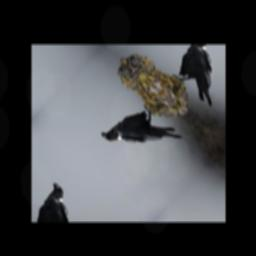Crow: (98, 95, 186, 178)
